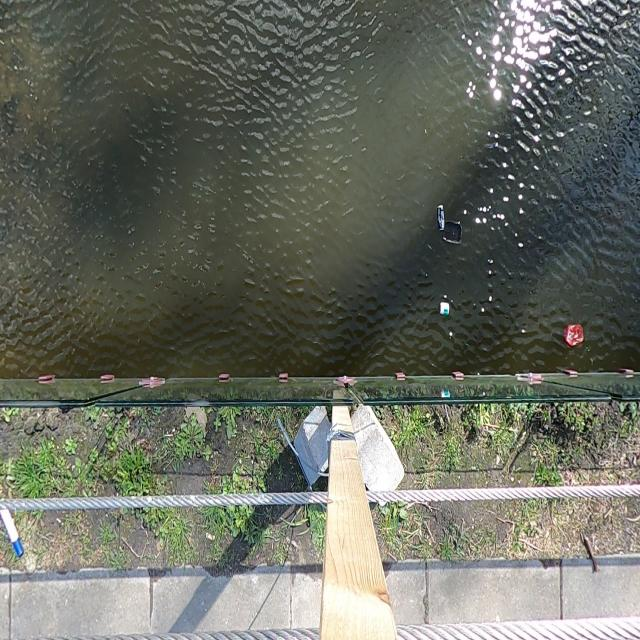Autre plastique: (443, 220, 466, 248)
Non plastique: (438, 297, 452, 322), (435, 203, 446, 231)
